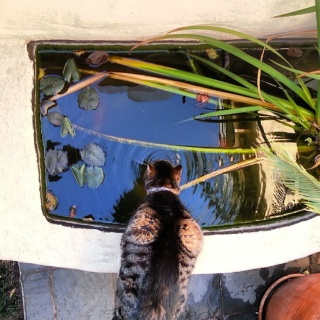Cat: (110, 151, 206, 319)
